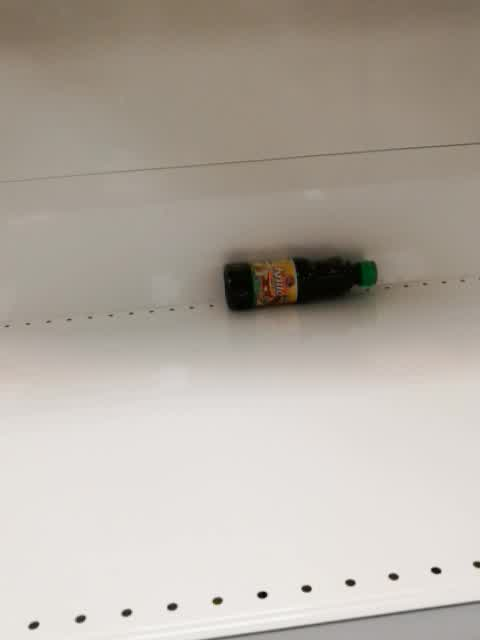cookingoil: (221, 256, 381, 312)
